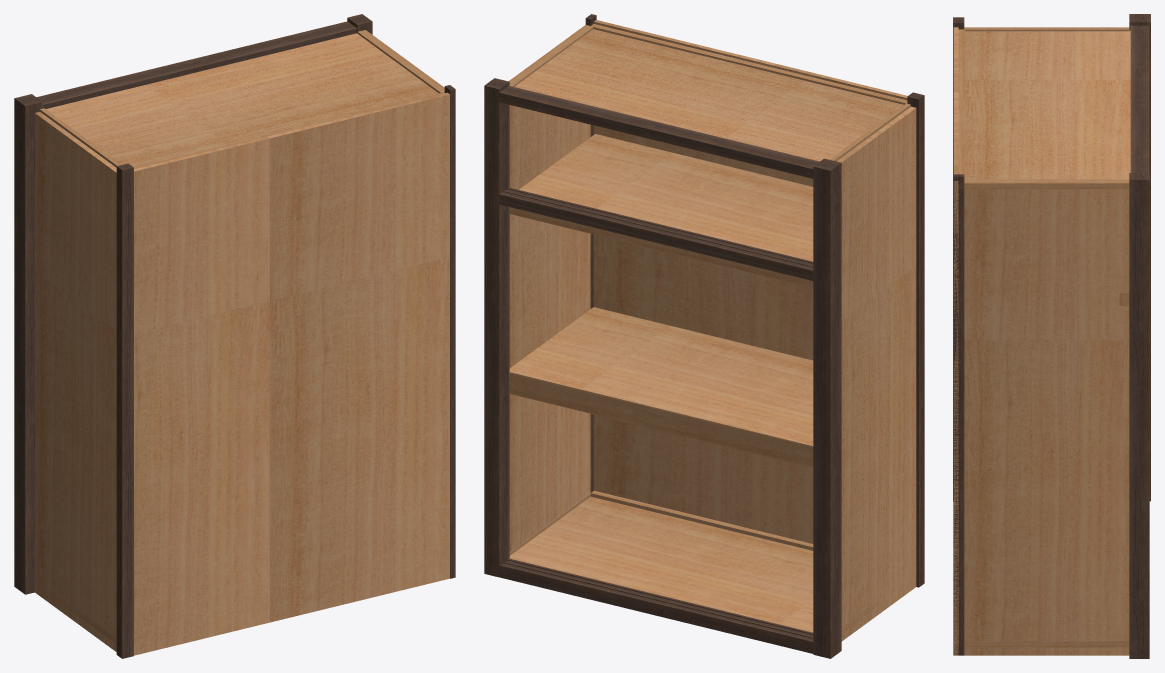
Rendered from inwall_osiire_1t_a.fbx.
3 views of the same model, side by side, from view 1: azimuth 30°, elevation 25°; view 2: azimuth 150°, elevation 25°; view 3: azimuth 270°, elevation 25° (orthographic). The views are drawn at different scales.
Visible parts, largest first — view 1: inwall_osiire_1t_a; view 2: inwall_osiire_1t_a; view 3: inwall_osiire_1t_a.
Boxes of the visible parts, <box> form: inwall_osiire_1t_a: <box>14,14,455,658</box>; inwall_osiire_1t_a: <box>484,14,924,658</box>; inwall_osiire_1t_a: <box>953,14,1150,658</box>.
Bounding box in the file's own units: 220 × 296 × 111.
